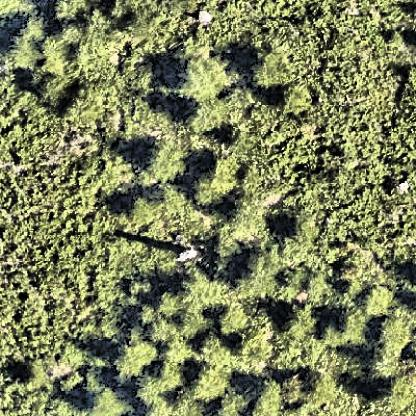tree-top: (243, 46, 298, 89), (144, 139, 188, 186), (187, 365, 229, 408), (179, 60, 222, 100), (115, 340, 156, 380), (249, 375, 287, 416), (58, 81, 94, 124), (183, 272, 219, 315), (238, 255, 273, 298), (282, 305, 320, 343), (375, 313, 413, 350), (215, 300, 254, 336), (191, 167, 227, 205), (361, 281, 395, 319), (8, 36, 41, 75), (184, 105, 224, 135), (307, 371, 342, 405), (202, 336, 236, 370), (362, 351, 401, 380), (178, 311, 212, 343), (284, 79, 314, 114), (384, 377, 414, 412), (90, 387, 126, 416), (122, 9, 159, 37), (38, 38, 65, 76), (290, 211, 319, 242), (25, 363, 49, 388), (158, 291, 182, 315)
